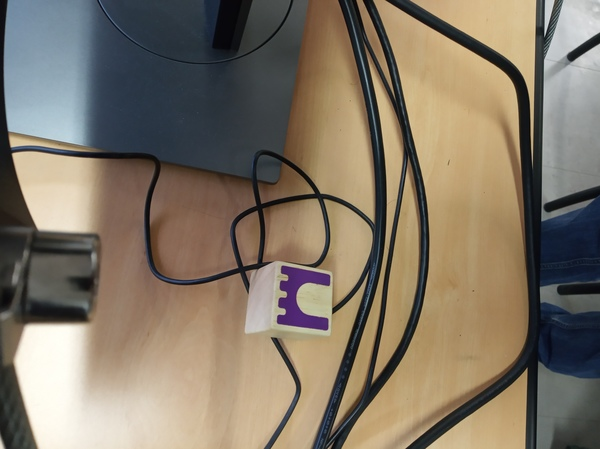violet: (256, 261, 334, 340)
